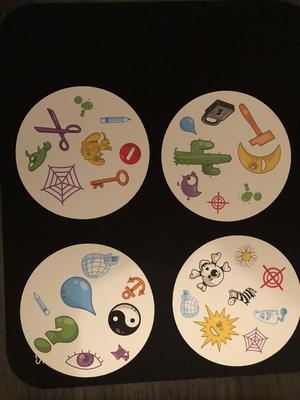ancre: (120, 275, 147, 302)
cactus: (170, 138, 233, 178)
cadenas: (200, 98, 237, 128)
chat: (109, 342, 132, 364)
chien: (79, 127, 113, 169)
cible: (257, 262, 288, 292), (205, 188, 229, 210)
ciseau: (32, 106, 82, 154)
cle: (88, 169, 130, 192)
crayon: (31, 290, 51, 318), (98, 112, 131, 126)
dinosore: (23, 140, 53, 173)
fantome: (252, 306, 290, 326)
fleur: (232, 244, 260, 272)
goutte: (58, 273, 97, 317), (178, 116, 201, 137)
igloo: (80, 250, 121, 282), (179, 287, 200, 320)
lune: (234, 140, 285, 176)
marteau: (236, 100, 278, 148)
oeuil: (63, 349, 105, 371)
oiseau: (172, 170, 204, 201)
point_interrogation: (33, 313, 80, 354)
sens_interdit: (116, 137, 142, 167)
soleil: (193, 303, 240, 354)
tache: (239, 180, 263, 206), (71, 94, 95, 120)
tete_mort: (188, 248, 230, 293)
toile: (38, 163, 85, 206), (241, 325, 270, 355)
ying_yang: (107, 300, 142, 338)
zebre: (223, 282, 259, 308)
